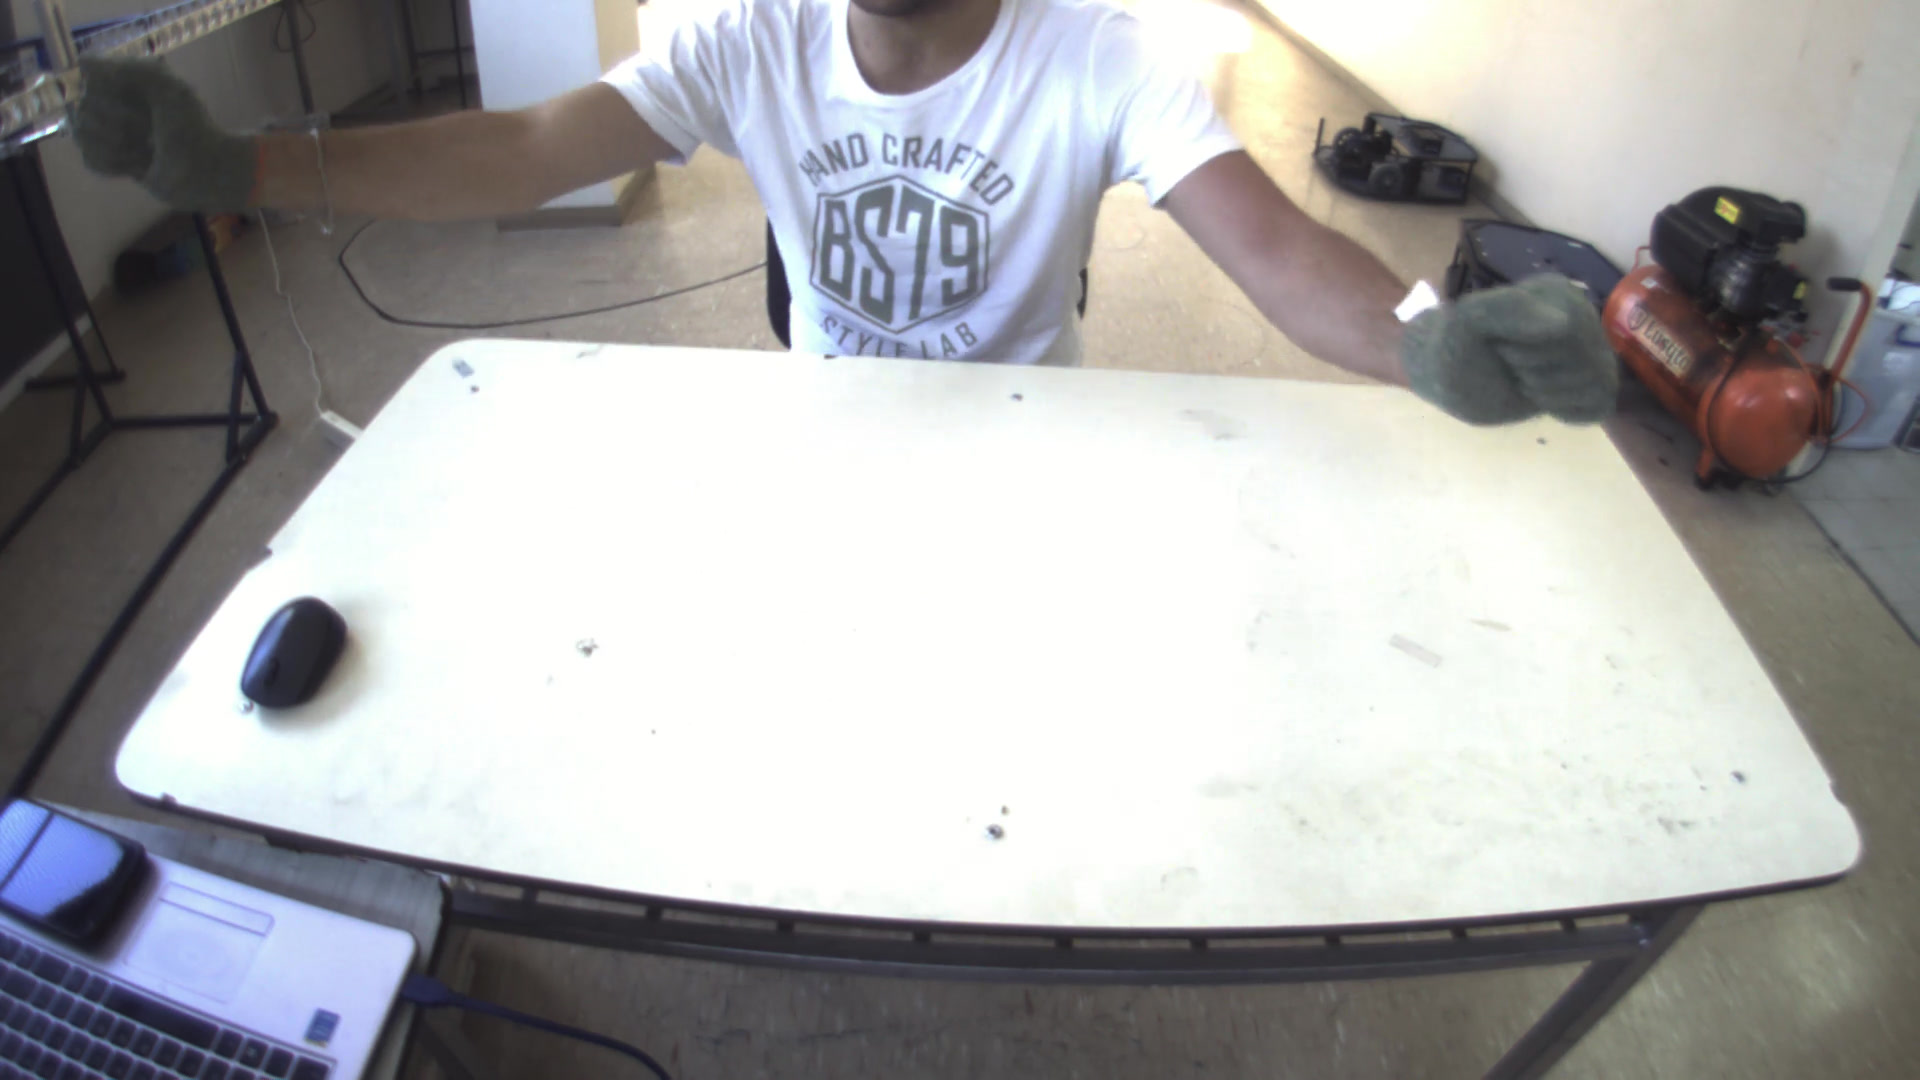hand: (1398, 264, 1633, 426), (65, 53, 258, 208)
